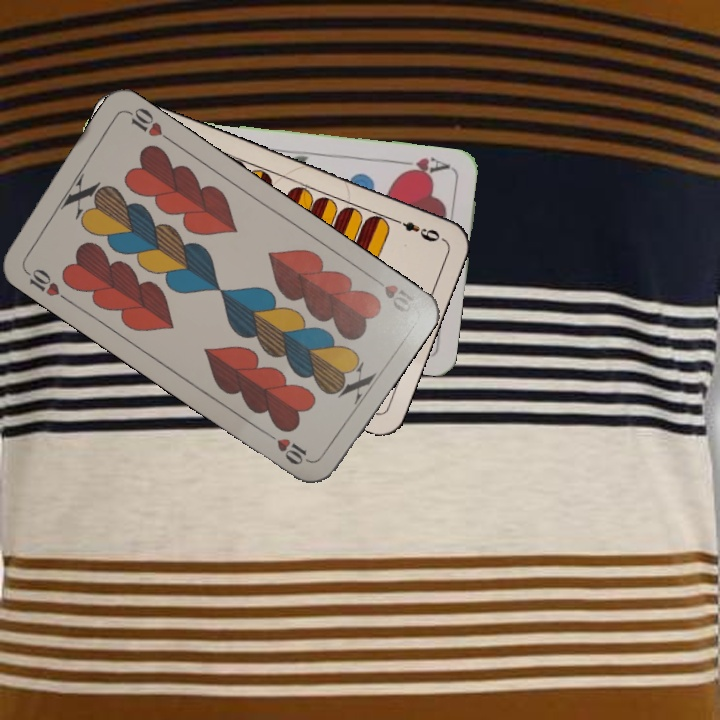E9: (389, 214, 445, 245)
H10: (365, 271, 418, 317), (19, 263, 70, 304)
HA: (395, 153, 454, 180)
